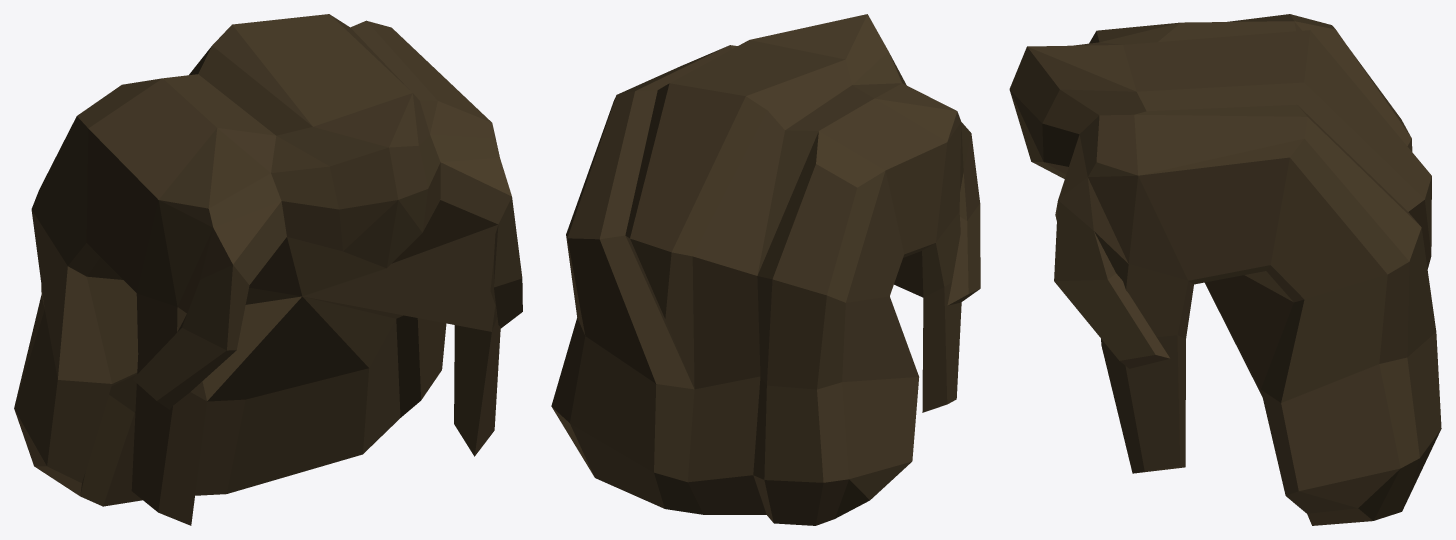
File: Chr_Hair_20_Static.fbx
3 renders of one model, left to right at view 1: azimuth 30°, elevation 25°; view 2: azimuth 150°, elevation 25°; view 3: azimuth 270°, elevation 25°, orthographic. The views are drawn at different scales.
Parts seen in each view (by area): view 1: Chr_Hair_20_Static; view 2: Chr_Hair_20_Static; view 3: Chr_Hair_20_Static.
Part boxes in pixels (left/top/right/bottom): Chr_Hair_20_Static: left=14, top=14, right=522, bottom=525; Chr_Hair_20_Static: left=551, top=14, right=980, bottom=525; Chr_Hair_20_Static: left=1009, top=14, right=1441, bottom=525.
Size of the model in its own units: 0.2813 by 0.3256 by 0.2833.
